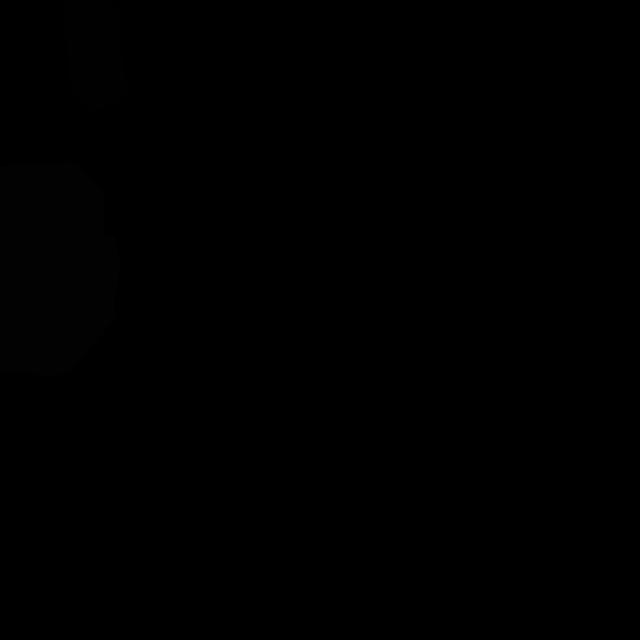cardboard: (0, 161, 121, 377)
rigid_plastic: (62, 0, 128, 111)
